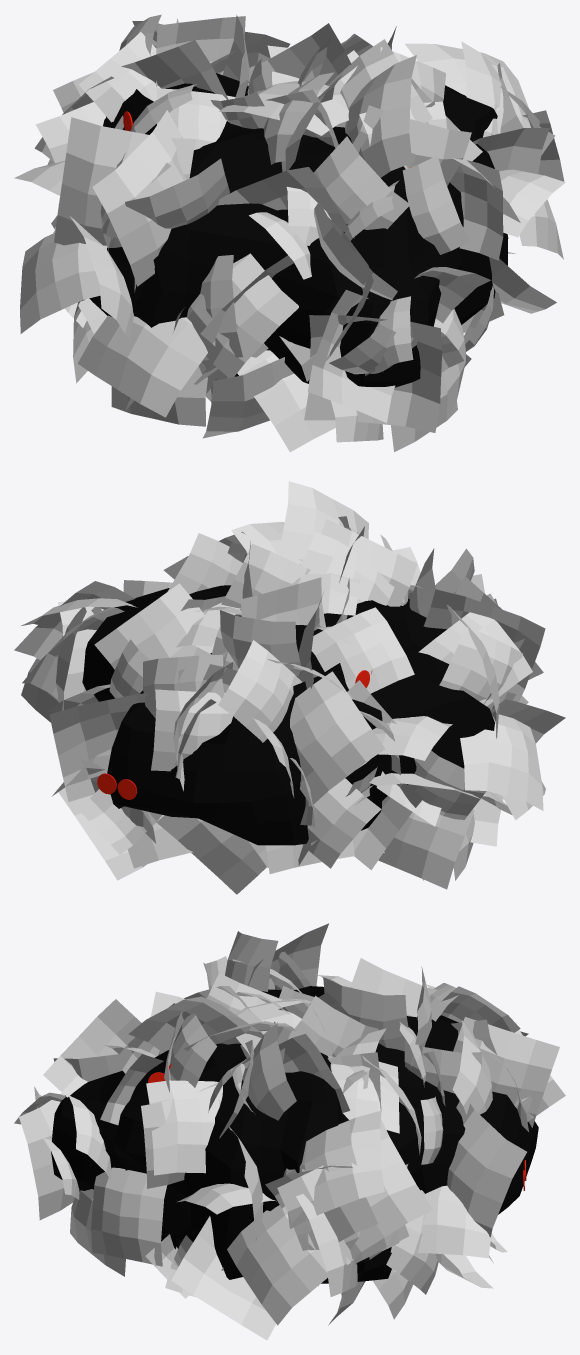
The model's file is puska.fbx.
The picture shows the model from 3 angles, top to bottom: view 1: azimuth 30°, elevation 25°; view 2: azimuth 150°, elevation 25°; view 3: azimuth 270°, elevation 25°; orthographic projection. The views are drawn at different scales.
Visible parts, largest first — view 1: puska, puska|puska_leafs|Dupli|138, puska|puska_leafs|Dupli|141, puska|puska_leafs|Dupli|144, puska|puska_leafs|Dupli|133, puska|puska_leafs|Dupli|113, puska|puska_leafs|Dupli|, puska|puska_leafs|Dupli|111, puska|puska_leafs|Dupli|120, puska|puska_leafs|Dupli|114, puska|puska_leafs|Dupli|106, puska|puska_leafs|Dupli|96 (+50 smaller); view 2: puska, puska|puska_leafs|Dupli|16, puska|puska_leafs|Dupli|, puska|puska_leafs|Dupli|8, puska|puska_leafs|Dupli|55, puska|puska_leafs|Dupli|54, puska|puska_leafs|Dupli|24, puska|puska_leafs|Dupli|2, puska|puska_leafs|Dupli|31, puska|puska_leafs|Dupli|38, puska|puska_leafs|Dupli|19, puska|puska_leafs|Dupli|111 (+45 smaller); view 3: puska, puska|puska_leafs|Dupli|75, puska|puska_leafs|Dupli|100, puska|puska_leafs|Dupli|55, puska|puska_leafs|Dupli|95, puska|puska_leafs|Dupli|85, puska|puska_leafs|Dupli|35, puska|puska_leafs|Dupli|67, puska|puska_leafs|Dupli|64, puska|puska_leafs|Dupli|56, puska|puska_leafs|Dupli|119, puska|puska_leafs|Dupli|68 (+41 smaller).
Boxes of the visible parts, bbox=[...] form: puska: bbox=[89, 73, 508, 387]; puska|puska_leafs|Dupli|138: bbox=[77, 315, 207, 417]; puska|puska_leafs|Dupli|141: bbox=[92, 110, 186, 286]; puska|puska_leafs|Dupli|144: bbox=[54, 117, 195, 247]; puska|puska_leafs|Dupli|133: bbox=[187, 253, 298, 377]; puska|puska_leafs|Dupli|113: bbox=[304, 315, 442, 432]; puska|puska_leafs|Dupli|: bbox=[20, 233, 107, 333]; puska|puska_leafs|Dupli|111: bbox=[345, 55, 416, 177]; puska|puska_leafs|Dupli|120: bbox=[313, 136, 410, 229]; puska|puska_leafs|Dupli|114: bbox=[307, 289, 395, 422]; puska|puska_leafs|Dupli|106: bbox=[402, 155, 469, 254]; puska|puska_leafs|Dupli|96: bbox=[450, 160, 503, 260]; puska: bbox=[82, 585, 494, 845]; puska|puska_leafs|Dupli|16: bbox=[290, 671, 385, 804]; puska|puska_leafs|Dupli|: bbox=[460, 714, 543, 810]; puska|puska_leafs|Dupli|8: bbox=[311, 607, 414, 693]; puska|puska_leafs|Dupli|55: bbox=[49, 693, 147, 801]; puska|puska_leafs|Dupli|54: bbox=[94, 583, 214, 669]; puska|puska_leafs|Dupli|24: bbox=[218, 640, 301, 742]; puska|puska_leafs|Dupli|2: bbox=[378, 802, 478, 889]; puska|puska_leafs|Dupli|31: bbox=[156, 815, 266, 894]; puska|puska_leafs|Dupli|38: bbox=[151, 689, 232, 771]; puska|puska_leafs|Dupli|19: bbox=[302, 778, 381, 868]; puska|puska_leafs|Dupli|111: bbox=[281, 481, 368, 561]; puska: bbox=[51, 986, 538, 1283]; puska|puska_leafs|Dupli|75: bbox=[227, 1205, 350, 1325]; puska|puska_leafs|Dupli|100: bbox=[91, 1167, 167, 1266]; puska|puska_leafs|Dupli|55: bbox=[447, 1101, 526, 1237]; puska|puska_leafs|Dupli|95: bbox=[146, 1080, 222, 1175]; puska|puska_leafs|Dupli|85: bbox=[171, 1216, 275, 1340]; puska|puska_leafs|Dupli|35: bbox=[453, 1017, 559, 1127]; puska|puska_leafs|Dupli|67: bbox=[287, 1110, 384, 1228]; puska|puska_leafs|Dupli|64: bbox=[350, 1119, 433, 1259]; puska|puska_leafs|Dupli|56: bbox=[390, 1185, 491, 1258]; puska|puska_leafs|Dupli|119: bbox=[43, 999, 141, 1097]; puska|puska_leafs|Dupli|68: bbox=[283, 1121, 377, 1241].
Bounding box in the file's own units: 1178 × 705 × 1151.
Materials: 10 (9 with a texture image).
